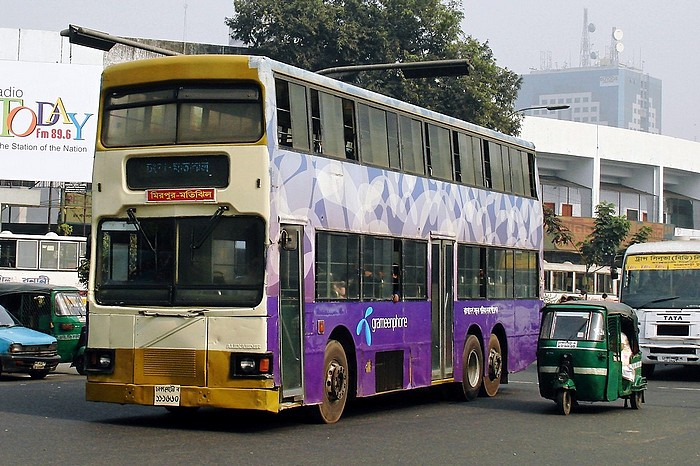bus: (71, 53, 552, 421), (606, 230, 700, 379), (2, 229, 92, 305)
car: (1, 297, 64, 383)
cng: (535, 297, 652, 408), (9, 279, 85, 358)
